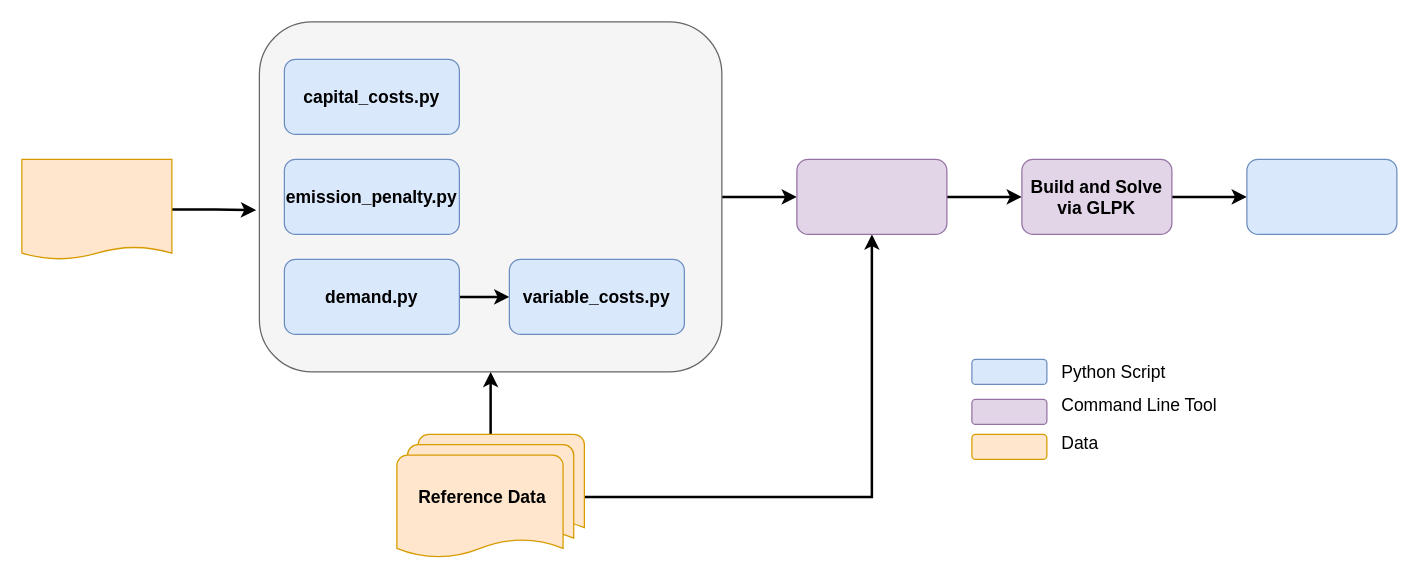
Image size: 1419x581. Some labels were removed from this diagram. Here are the shapes that lost their labels. From the top down, the box of each, then its label:
(21, 158, 172, 259): Scenario Parameters
(796, 158, 947, 234): otoole
(1246, 158, 1397, 234): plot_capacity.py
